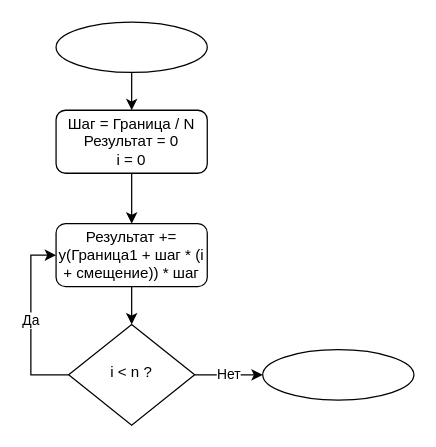
Some shapes in this 436 by 447 pixel diagram are drawn without their labels. The shapes that lost their labels are listed below. From the top down, each one's box as (x1, y1, x2, y2) in pixels, then its label:
(55, 21, 207, 72): Начало
(261, 348, 414, 400): Конец
